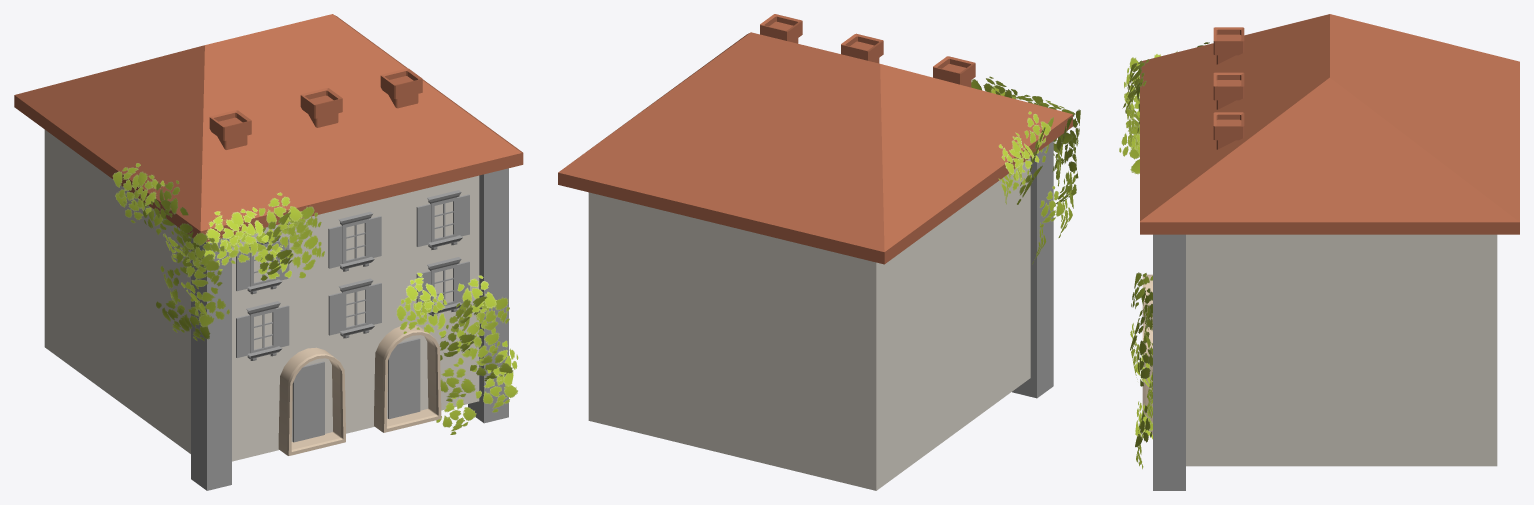
File: DowntownHouse1_Low.fbx
3 views of the same model, side by side, from view 1: azimuth 30°, elevation 25°; view 2: azimuth 150°, elevation 25°; view 3: azimuth 270°, elevation 25° (orthographic).
Parts seen in each view (by area): view 1: Shutter17, polySurface83; view 2: Shutter17, polySurface83; view 3: Shutter17, polySurface83.
Part boxes in pixels (left/top/right/bottom): Shutter17: left=44, top=130, right=518, bottom=490; polySurface83: left=14, top=14, right=523, bottom=455; Shutter17: left=588, top=76, right=1080, bottom=490; polySurface83: left=558, top=14, right=1072, bottom=264; Shutter17: left=1119, top=42, right=1497, bottom=490; polySurface83: left=1140, top=14, right=1519, bottom=434.
Bounding box in the file's own units: 35.14 × 36.41 × 34.87.
